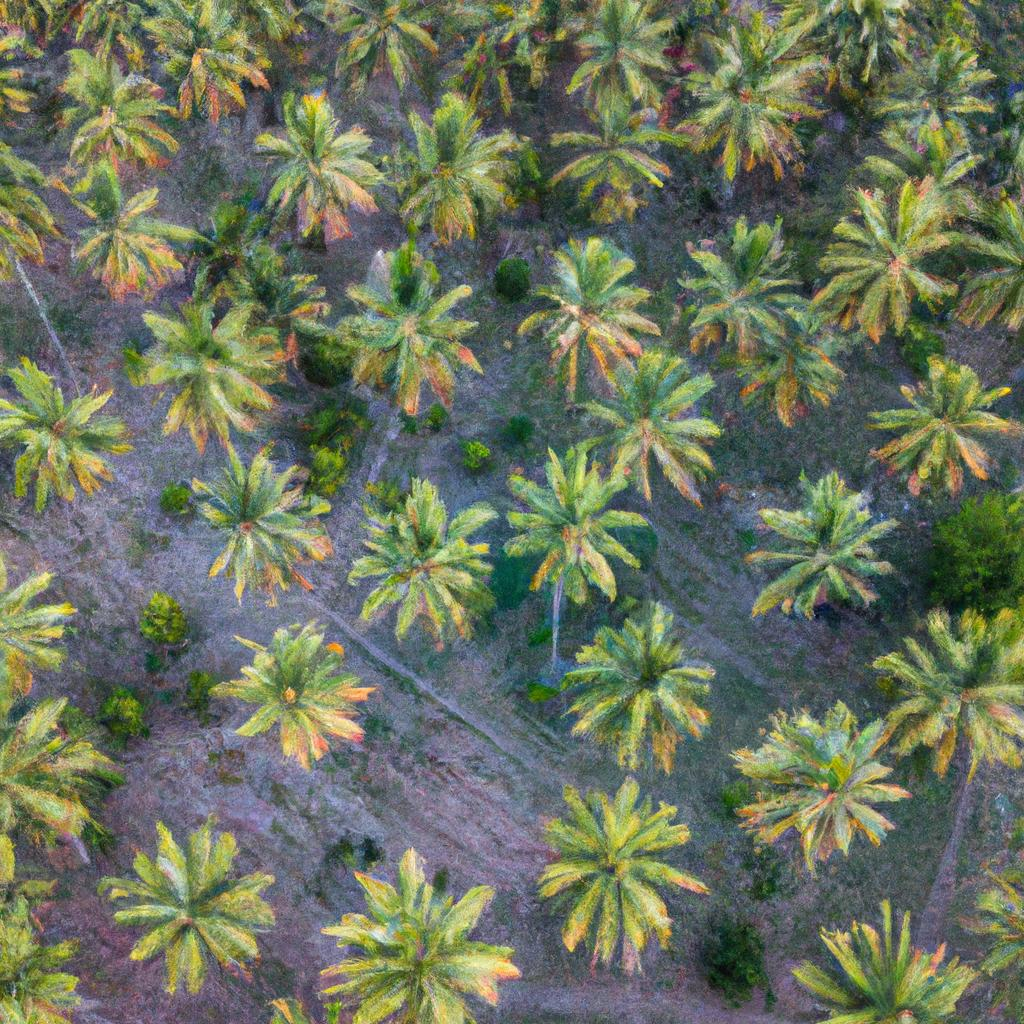coconut_tree: (510, 774, 716, 974), (108, 808, 283, 994), (726, 685, 901, 861), (556, 607, 745, 767), (329, 239, 493, 418), (216, 618, 391, 769), (816, 172, 969, 343), (118, 281, 285, 429), (867, 612, 1023, 769), (486, 432, 634, 597), (181, 451, 337, 599), (349, 476, 488, 640), (0, 348, 143, 505), (752, 466, 895, 622), (862, 354, 1015, 488), (256, 88, 388, 242), (59, 161, 207, 289), (575, 372, 721, 501), (529, 228, 655, 374), (396, 93, 521, 239), (689, 34, 823, 170), (47, 40, 185, 161), (675, 216, 804, 343), (539, 97, 683, 205), (564, 4, 689, 113)
